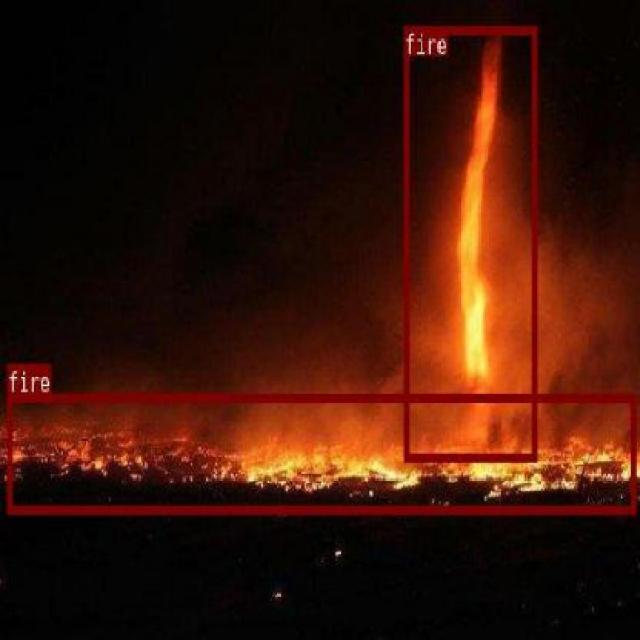Fire: (6, 393, 634, 512), (404, 24, 536, 460)
